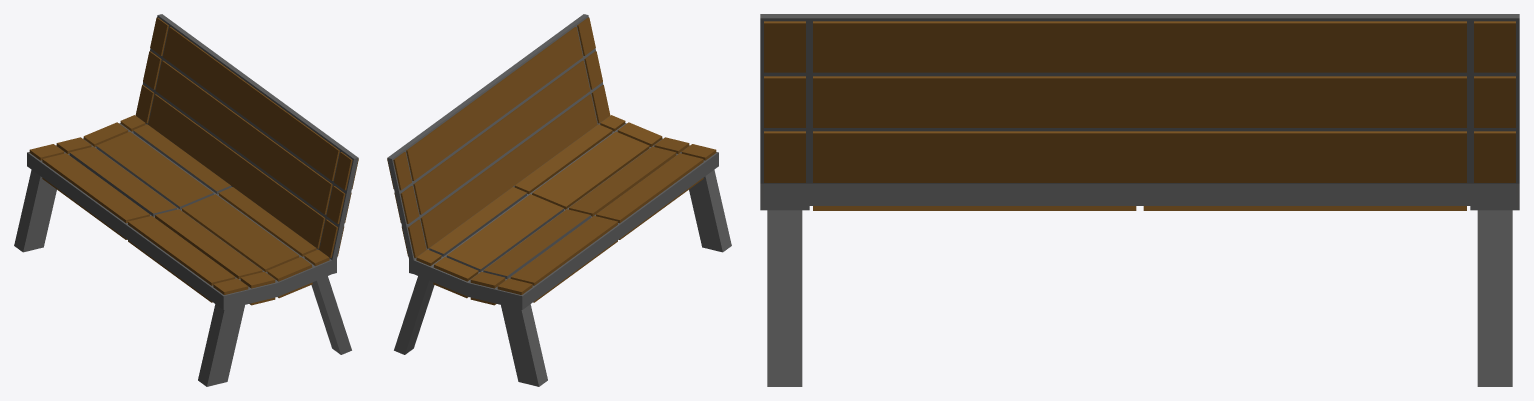
The model's file is Wooden Bench 2.fbx.
3 views of the same model, side by side, from view 1: azimuth 30°, elevation 25°; view 2: azimuth 150°, elevation 25°; view 3: azimuth 270°, elevation 25° (orthographic). The views are drawn at different scales.
Visible parts, largest first — view 1: Wooden Bench 2; view 2: Wooden Bench 2; view 3: Wooden Bench 2.
Part boxes in pixels (x1,y1,x2,y2): Wooden Bench 2: [14, 14, 358, 386]; Wooden Bench 2: [387, 14, 731, 386]; Wooden Bench 2: [760, 14, 1519, 386].
Bounding box in the file's own units: 0.738 × 1.66 × 0.9092.
